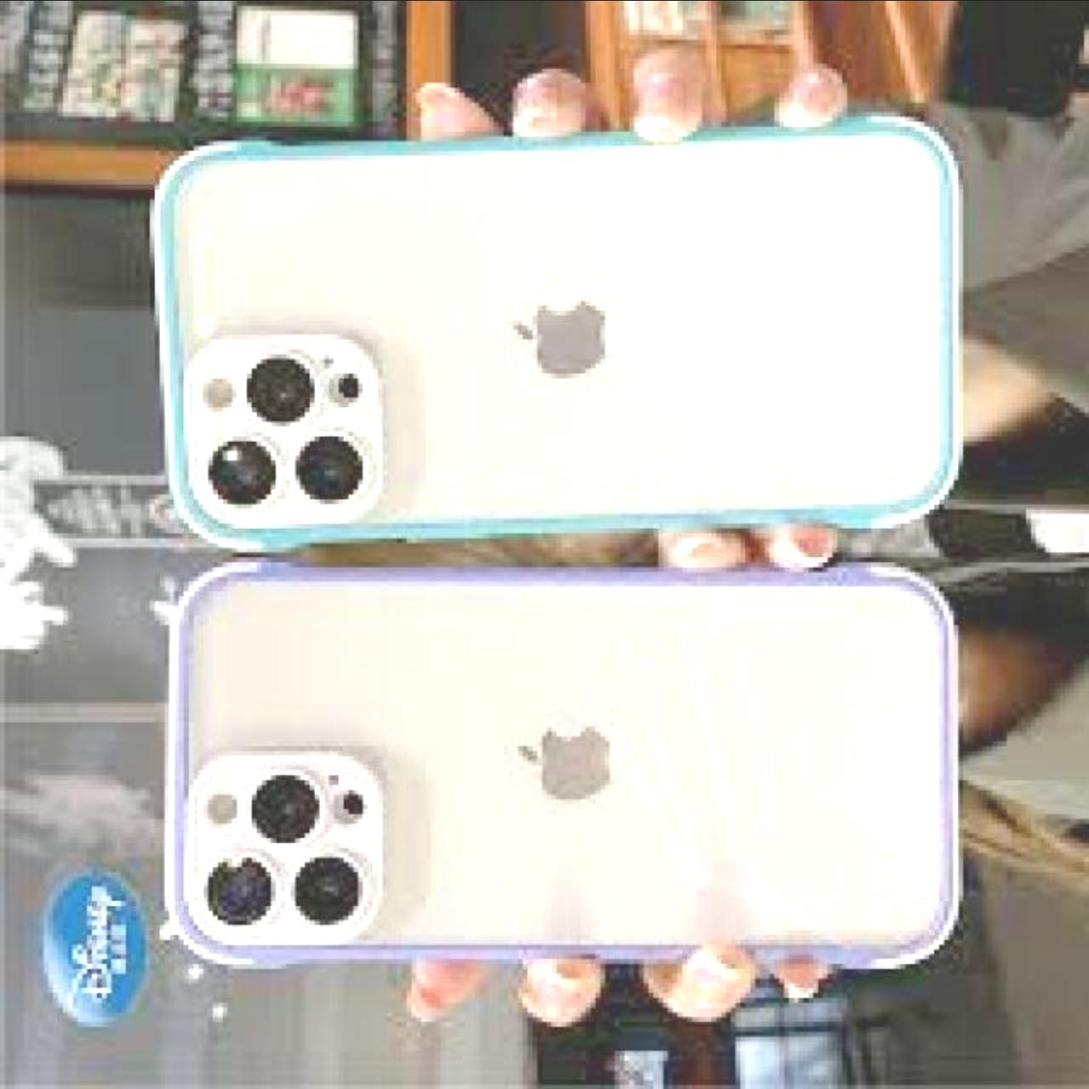phone: (150, 107, 972, 550), (165, 555, 963, 973)
